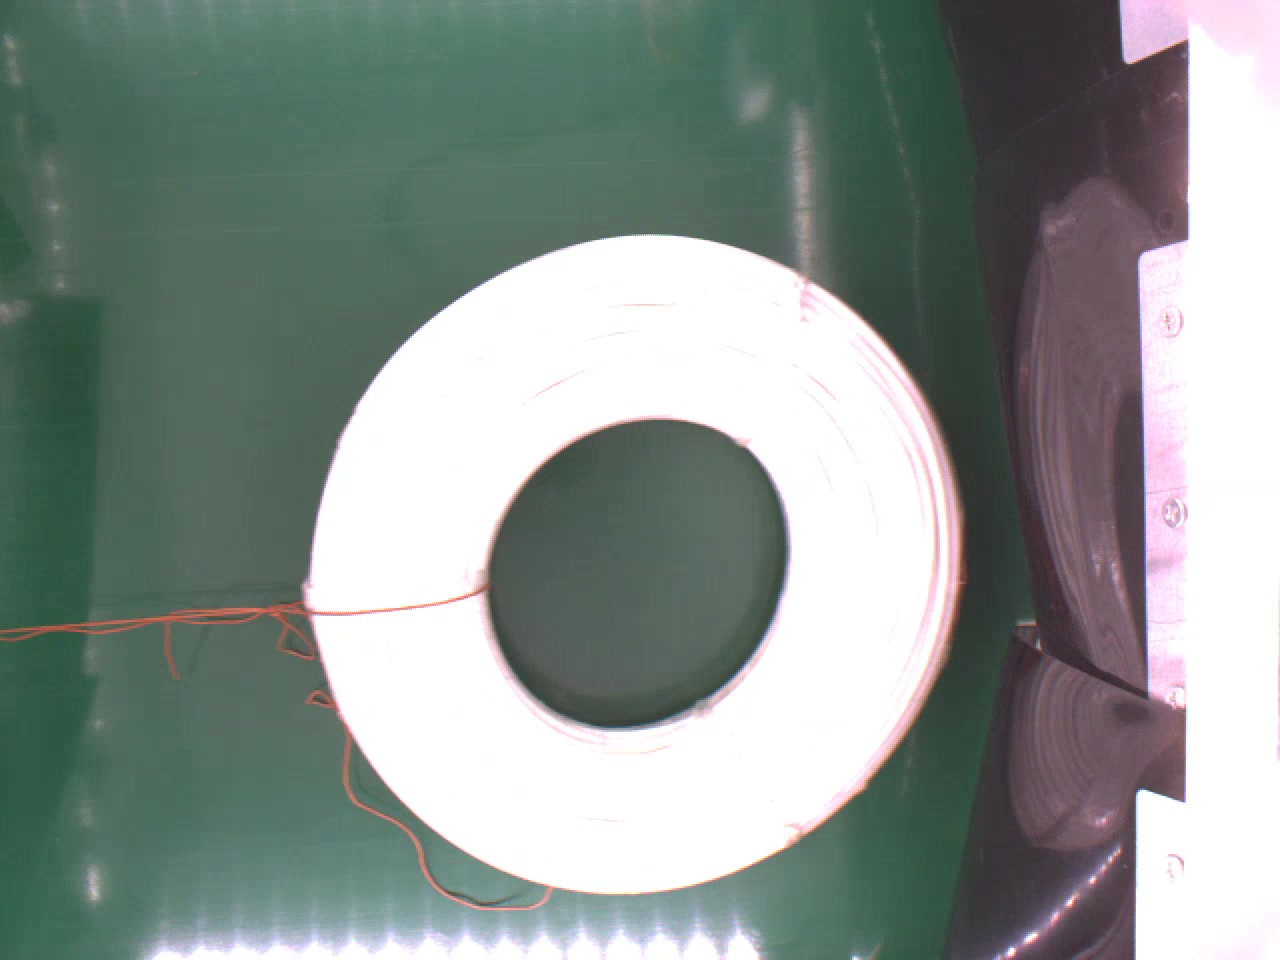white: (298, 230, 966, 898)
